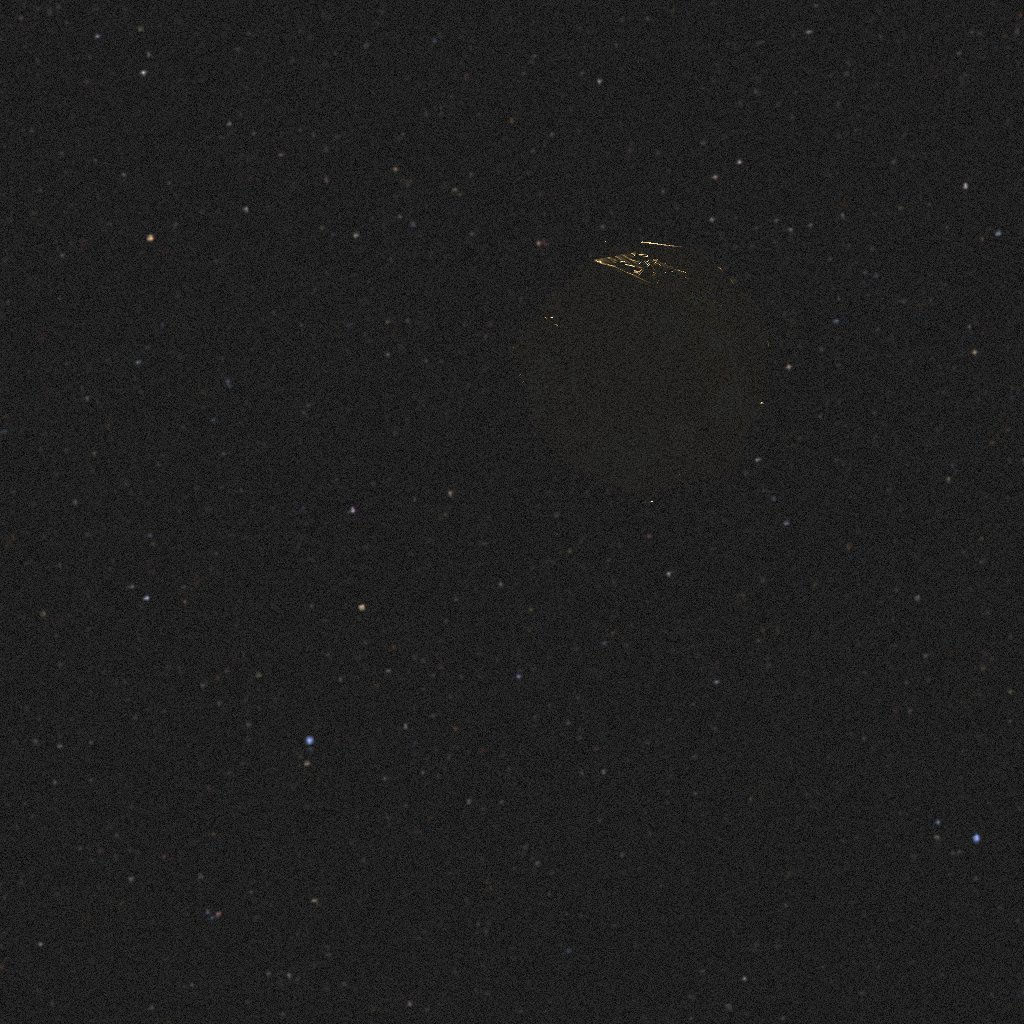lisa_pathfinder: (496, 223, 776, 497)
